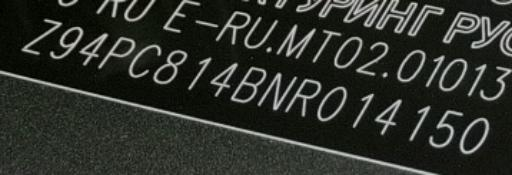letter: (254, 71, 300, 112), (20, 14, 62, 58), (283, 77, 323, 118), (428, 106, 464, 150), (229, 64, 267, 105), (151, 48, 189, 88), (97, 33, 137, 70), (456, 116, 492, 154), (48, 23, 84, 60), (315, 84, 347, 123), (128, 42, 162, 77), (78, 29, 110, 66), (208, 61, 240, 98), (372, 96, 402, 134), (350, 90, 376, 130), (406, 105, 432, 143), (186, 53, 212, 90)
